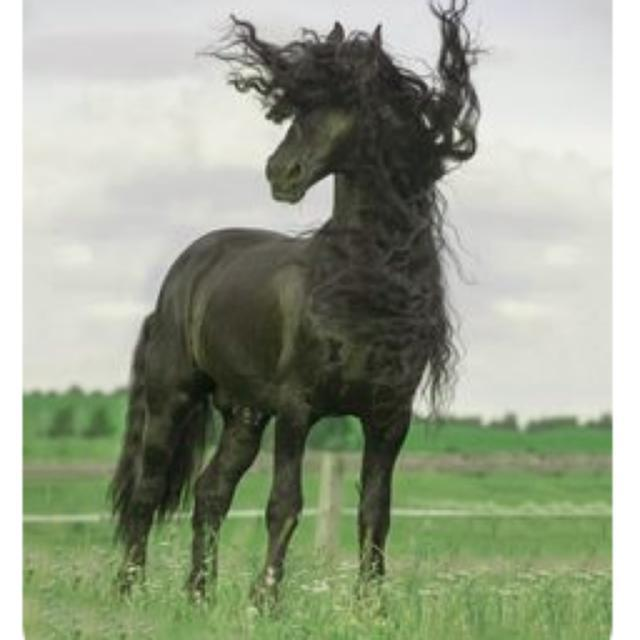Horse: (98, 0, 495, 622)
